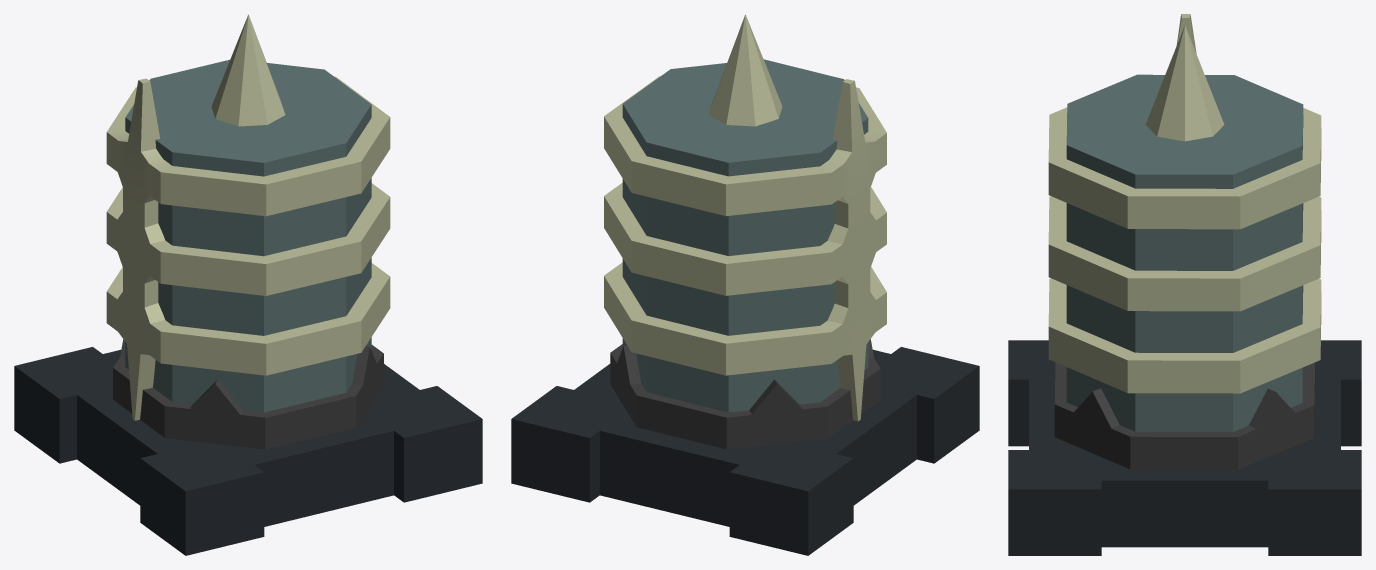
The model's file is Generador.fbx.
3 renders of one model, left to right at view 1: azimuth 30°, elevation 25°; view 2: azimuth 150°, elevation 25°; view 3: azimuth 270°, elevation 25°, orthographic. The views are drawn at different scales.
Parts seen in each view (by area): view 1: pCone2; view 2: pCone2; view 3: pCone2.
Part boxes in pixels (x1,y1,x2,y2): pCone2: [14, 14, 482, 555]; pCone2: [511, 14, 979, 555]; pCone2: [1008, 14, 1361, 555].
Size of the model in its own units: 3.51 by 5 by 3.51.
